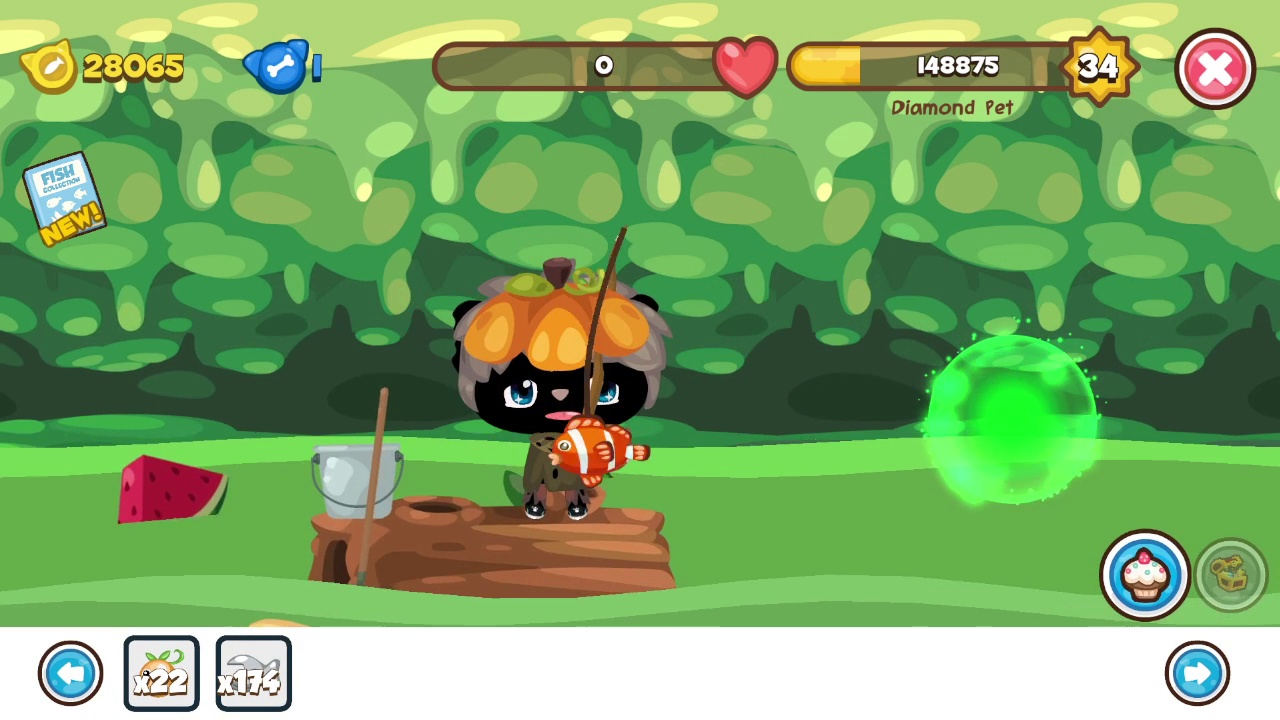point: (922, 328, 1102, 508)
